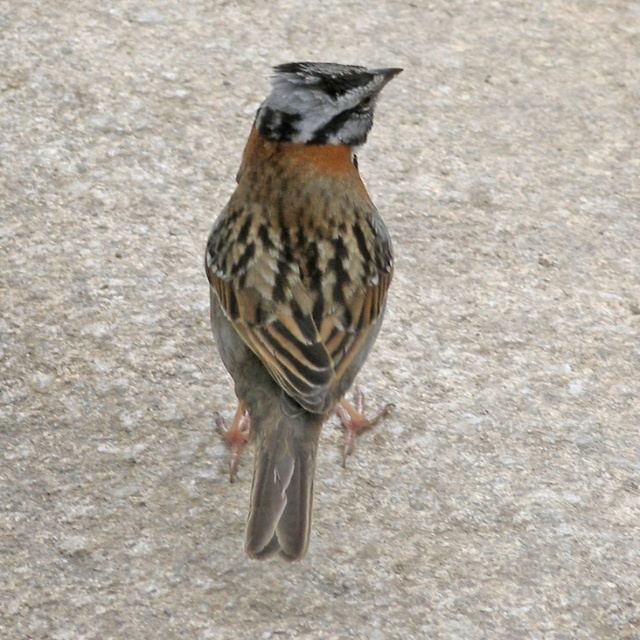Sparrow: (205, 61, 404, 563)
